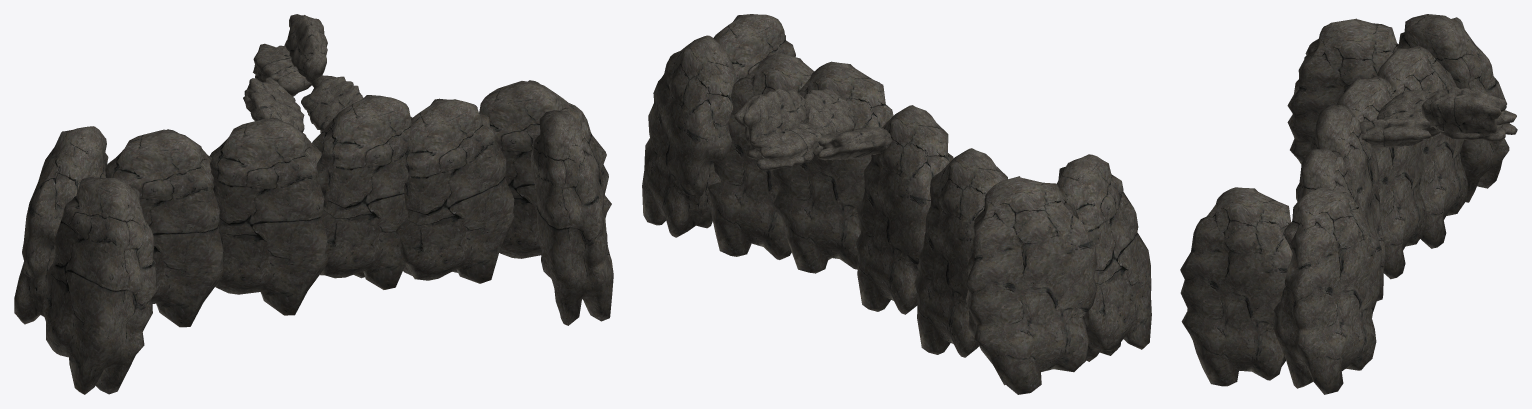
File: TwinPeakRocksShape10.dae
The picture shows the model from 3 angles, left to right: view 1: azimuth 30°, elevation 25°; view 2: azimuth 150°, elevation 25°; view 3: azimuth 270°, elevation 25°; orthographic projection. The views are drawn at different scales.
Parts seen in each view (by area): view 1: TwinPeakRocks10; view 2: TwinPeakRocks10; view 3: TwinPeakRocks10.
Part boxes in pixels (x1,y1,x2,y2): TwinPeakRocks10: [14, 14, 613, 394]; TwinPeakRocks10: [642, 14, 1151, 394]; TwinPeakRocks10: [1180, 14, 1517, 394].
Bounding box in the file's own units: 608 × 280 × 364.
